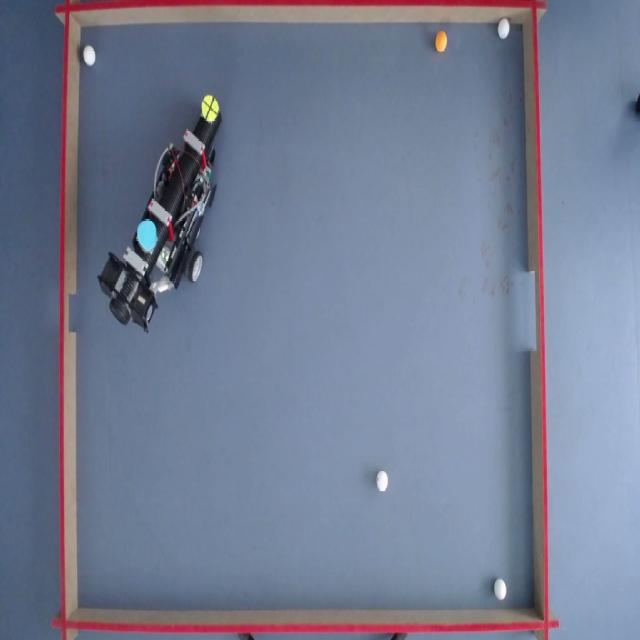orange: (435, 34, 449, 54)
robot: (95, 93, 228, 341)
robot-front: (201, 94, 220, 123)
robot-rear: (134, 215, 158, 252)
white: (494, 578, 508, 601), (375, 470, 389, 492), (498, 18, 512, 39), (83, 46, 97, 66)
